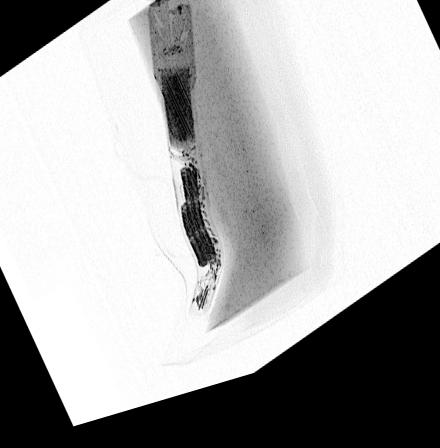Baton: (147, 5, 225, 326)
